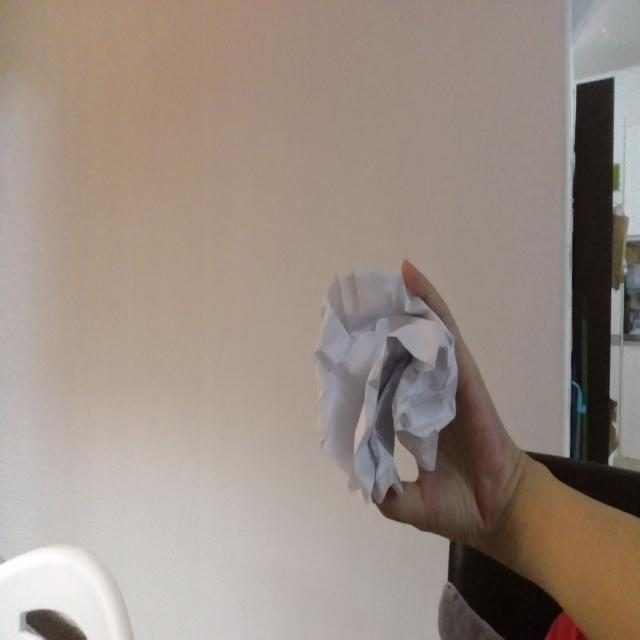crumpled_paper: (309, 262, 459, 507)
